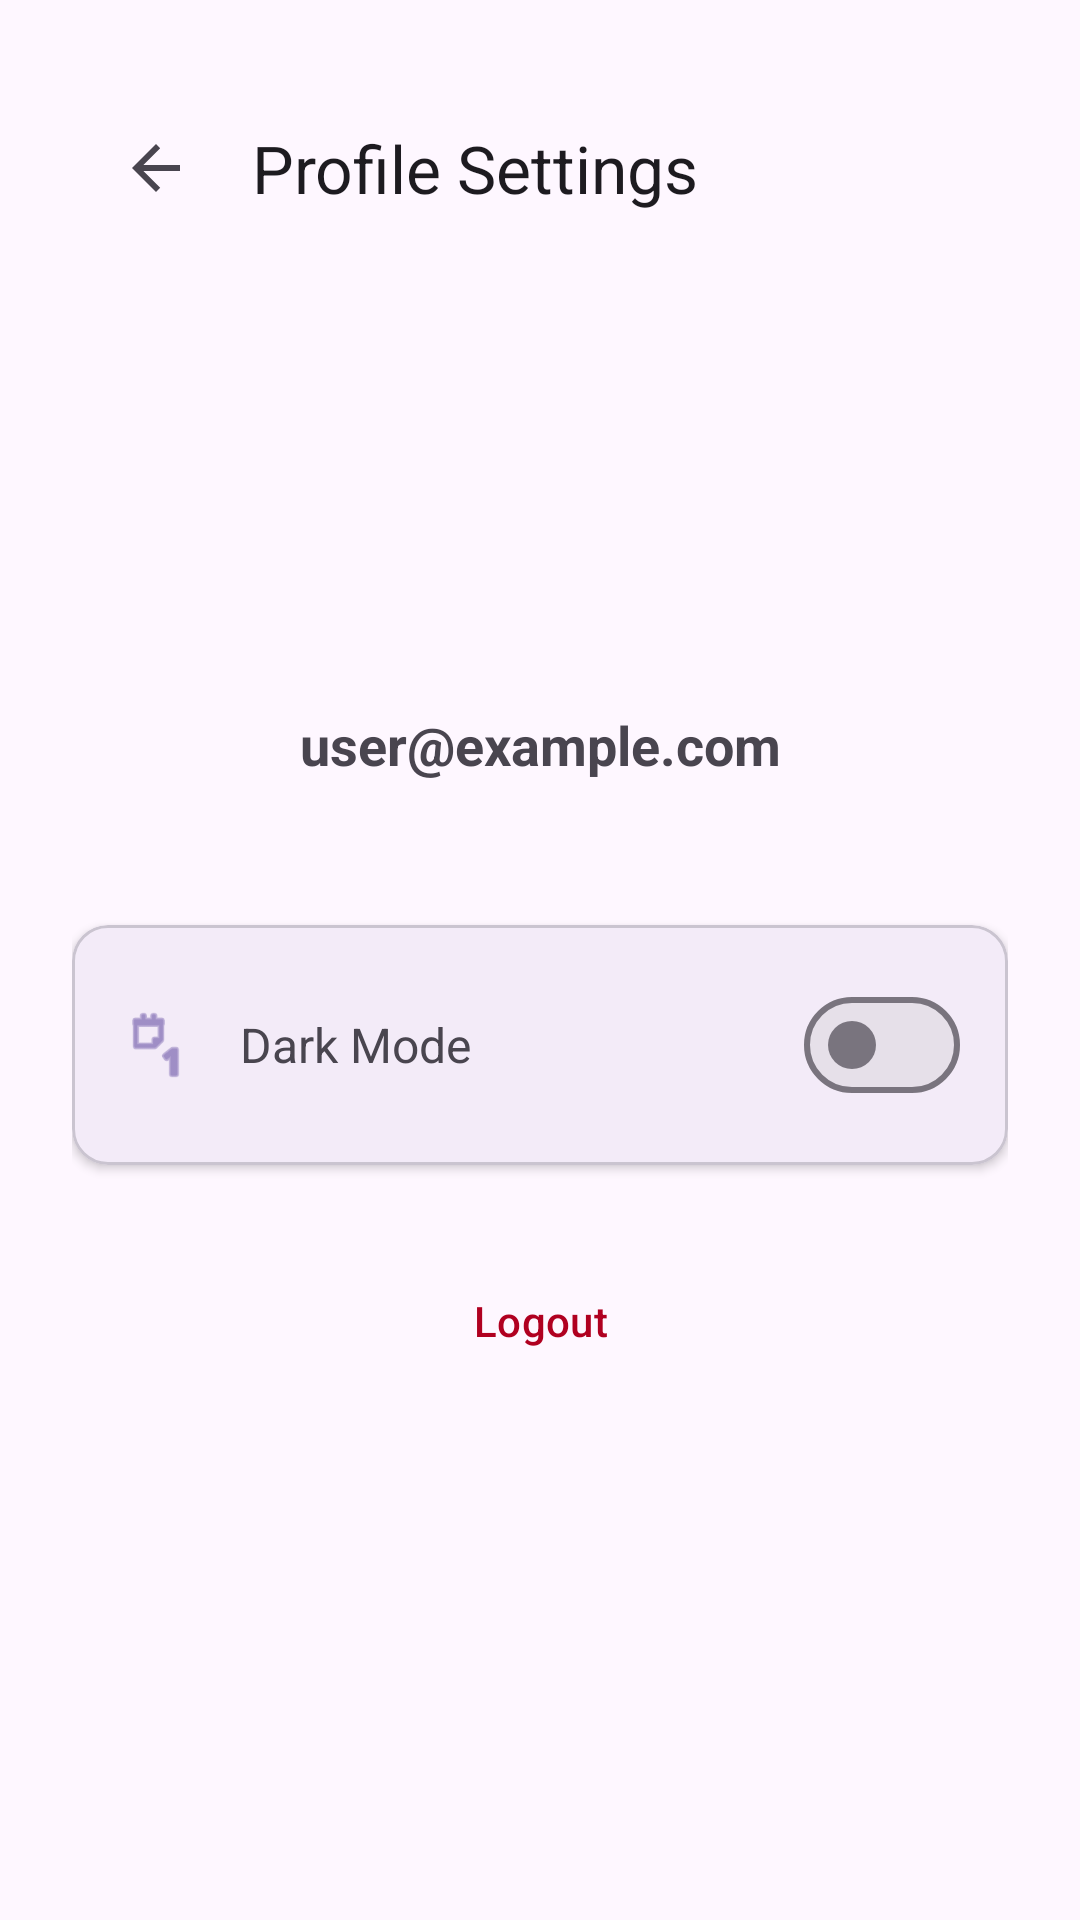

Where to tap for icons on this 1080px×1920px app screen, as (x=x, y=y):
day: (x=155, y=1045)
